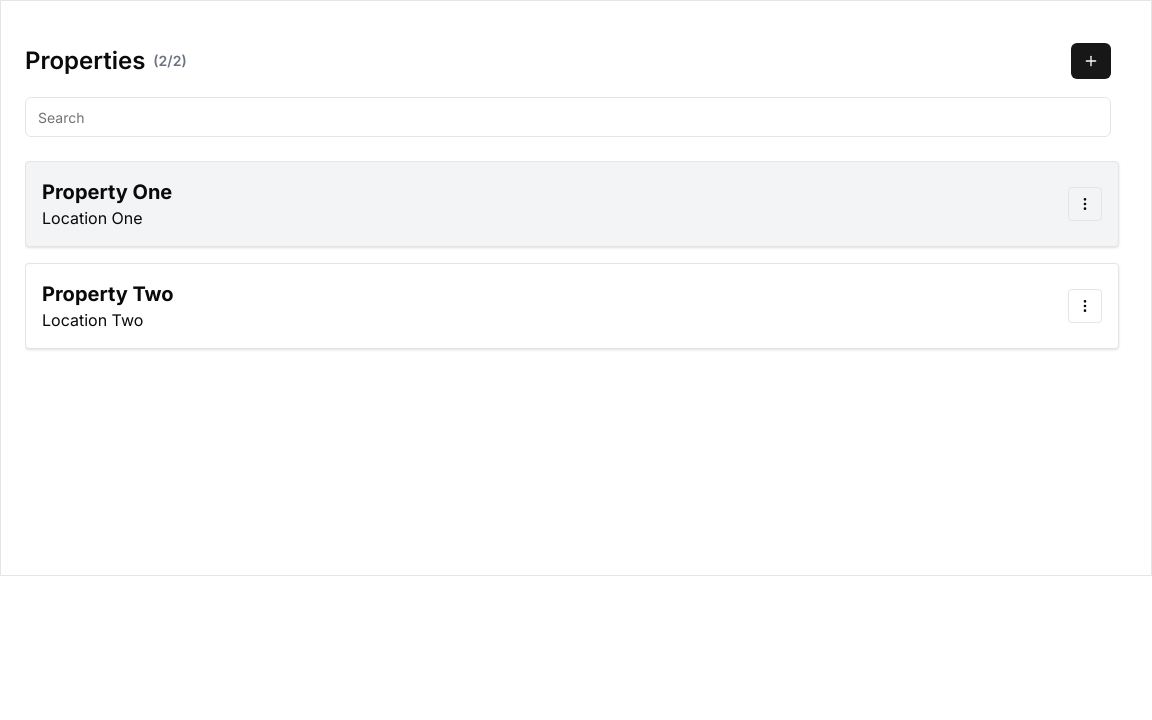
Test: PropertyList Component › filters properties based on search term
The width and height of the screenshot is (1152, 720).
Type "One" into the field with placeholder "Search".
click(568, 117); type("One")  # box x1=25 y1=97 x2=1111 y2=137
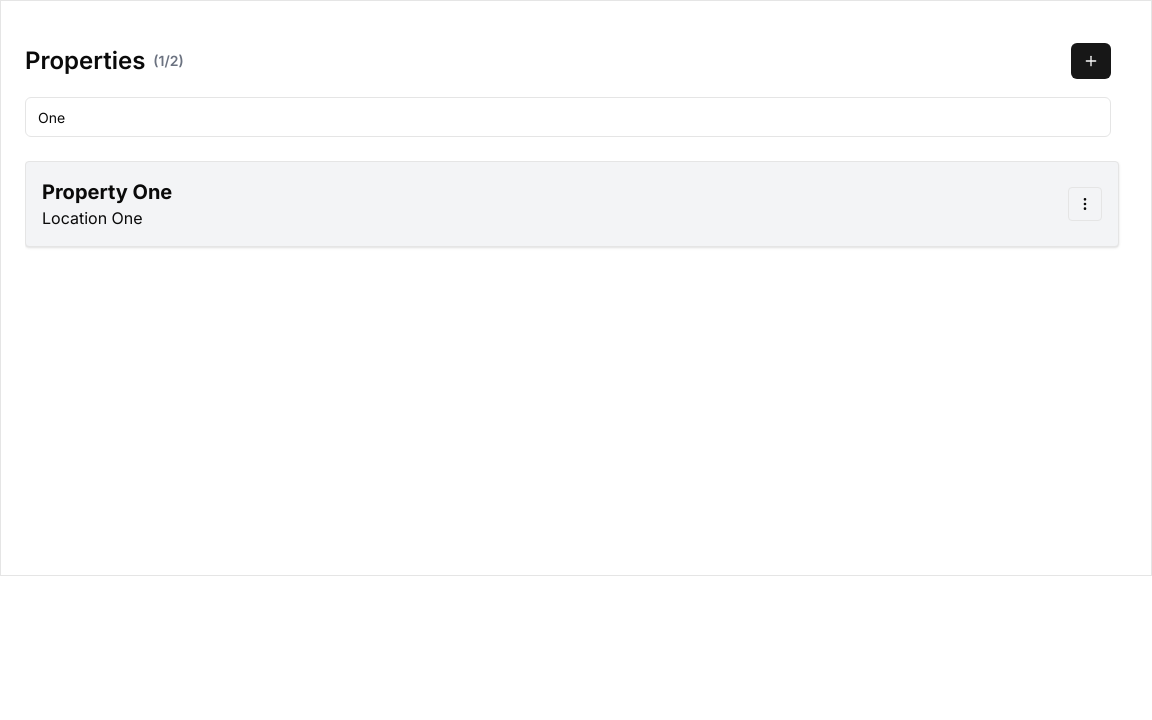
Expected: the heading "Property One" is shown, x1=42 y1=178 x2=172 y2=206
Expected: the text with test id "property-count" reads "(1/2)", x1=153 y1=55 x2=184 y2=67
Expected: the heading "Property Two" is gone
